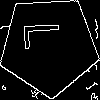L: (24, 20, 69, 51)
